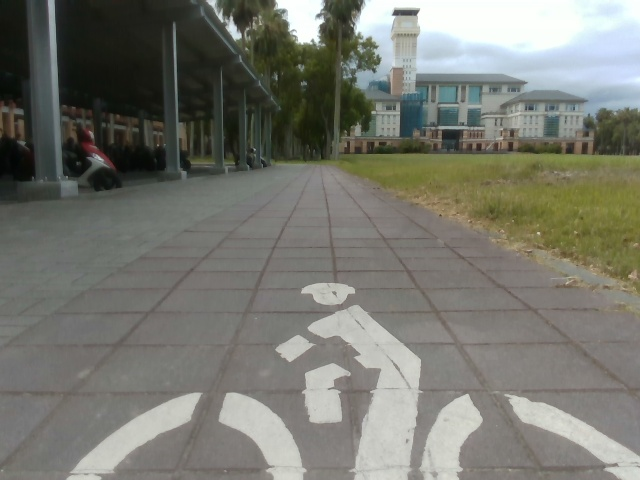grass: (311, 143, 639, 295), (213, 0, 381, 161), (586, 108, 639, 155), (188, 100, 239, 145)
road: (0, 168, 639, 479)
sidewalk: (0, 169, 257, 314)
